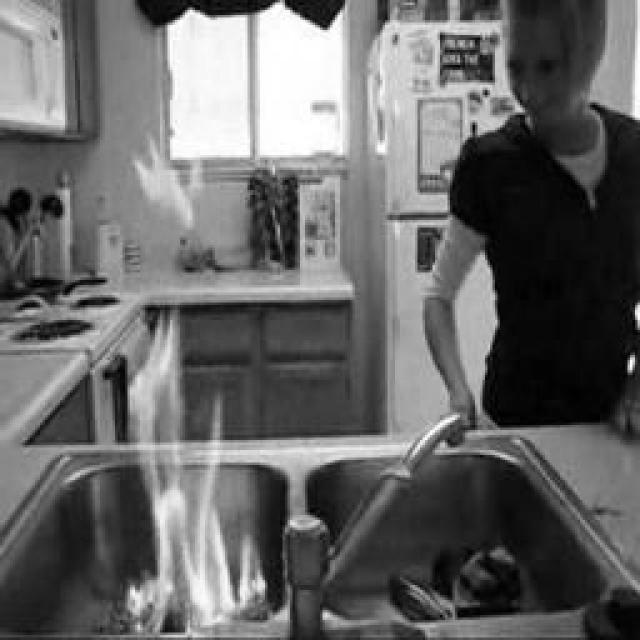smoke: (122, 305, 272, 640), (134, 130, 206, 231)
